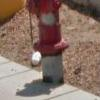Hydrant: (22, 1, 69, 84)
